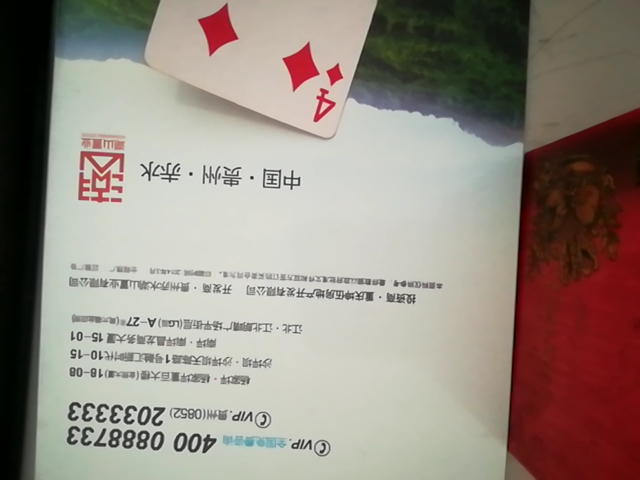fk 4: (132, 0, 419, 140)
